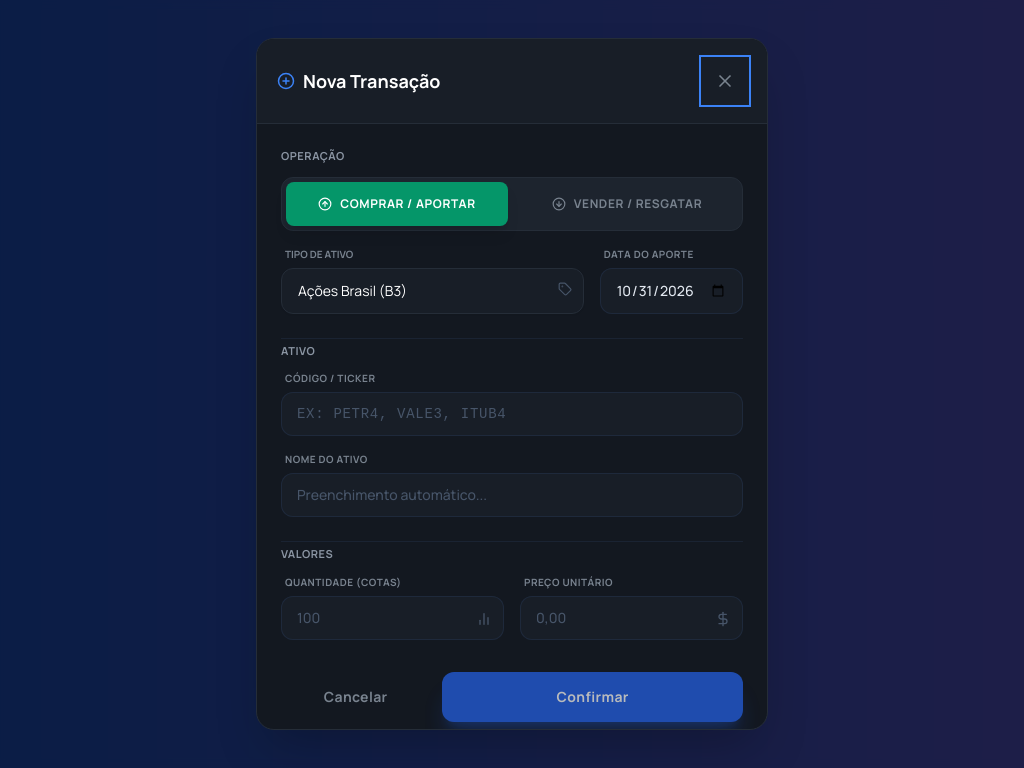
Test: modo CASH › em modo venda CASH sem reservas exibe mensagem de aviso
The width and height of the screenshot is (1024, 768).
Select "Reserva / Caixa" in the dropdown showing "Ações Brasil (B3)" at {"x": 432, "y": 291}, box [281,268,584,314]
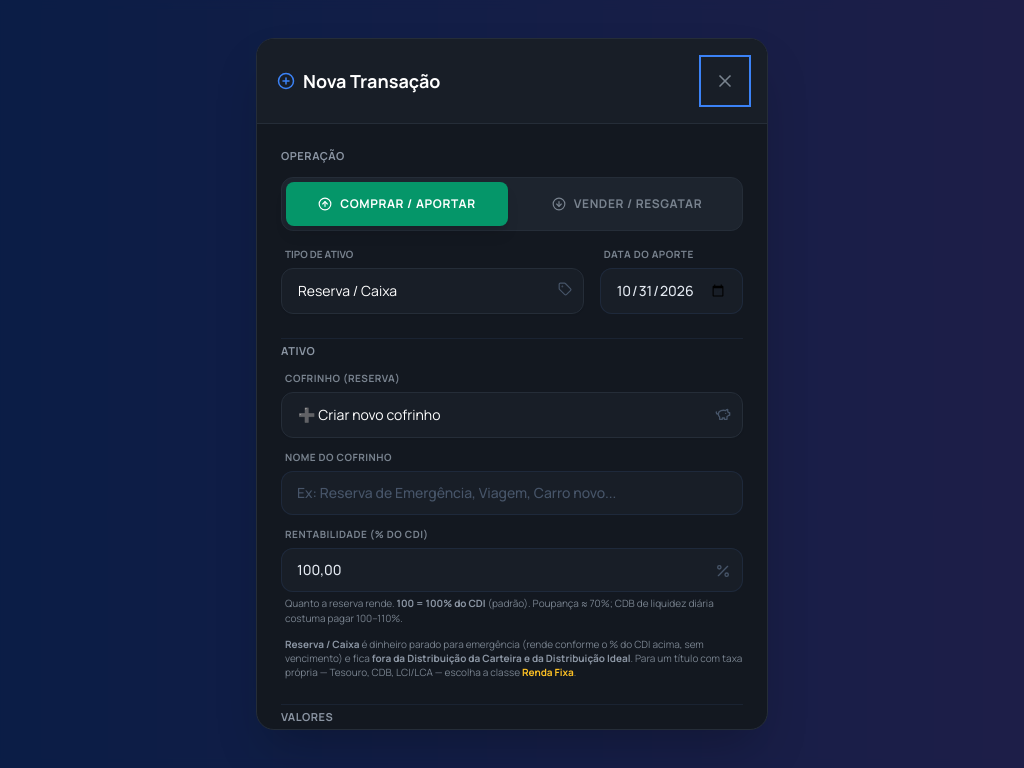
Click the button "Vender / Resgatar" at {"x": 627, "y": 204}, box [516,182,738,226]
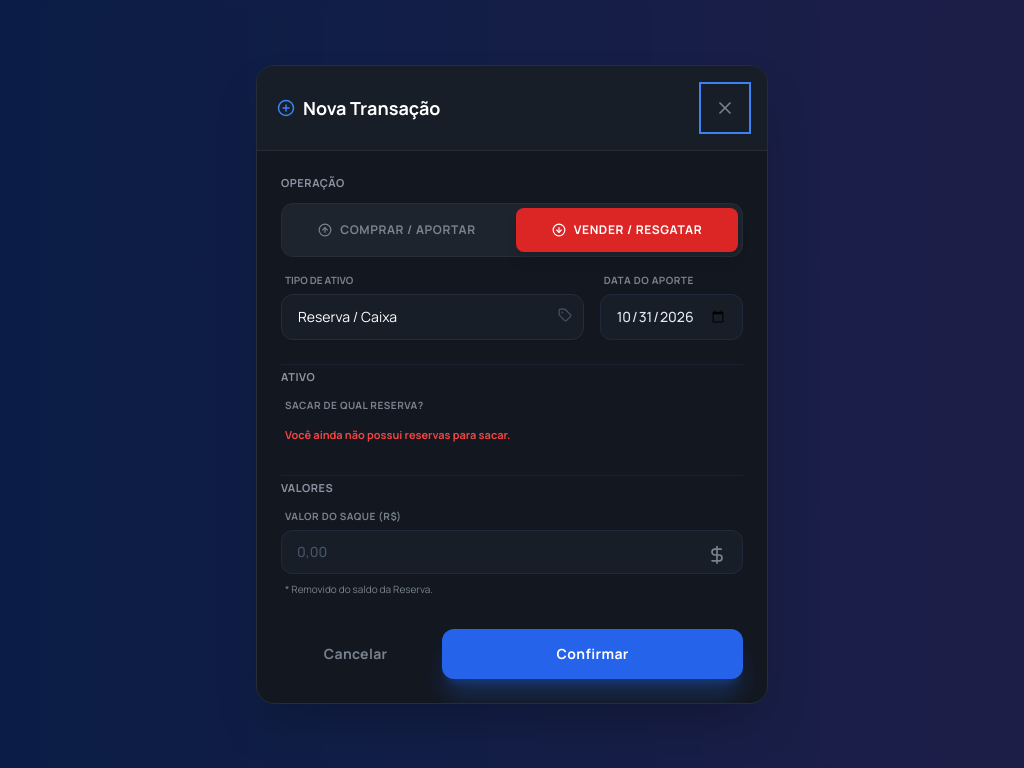
expect the text "Você ainda não possui reservas para sacar." is shown: met, box [285,426,510,442]
